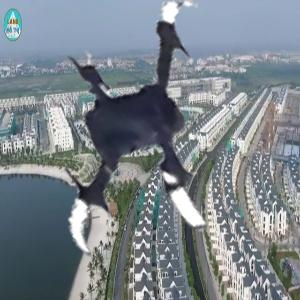drone: (14, 1, 293, 280)
